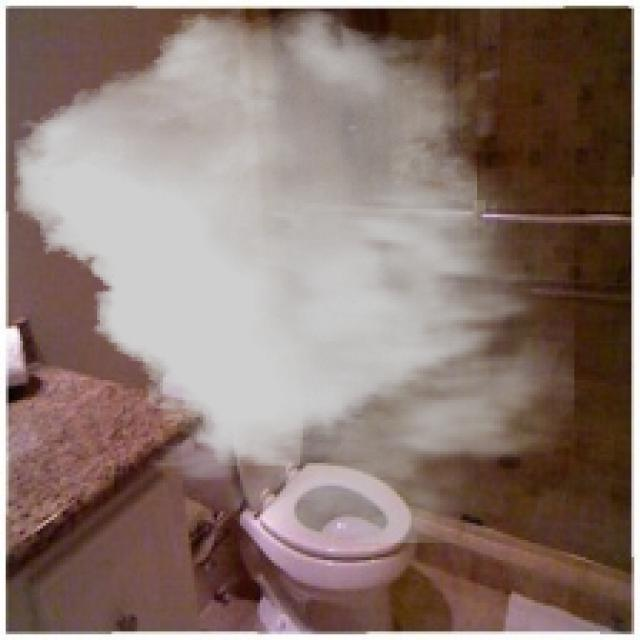Smoke: (14, 6, 574, 543)
